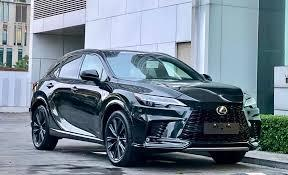lexus: (212, 102, 230, 120)
